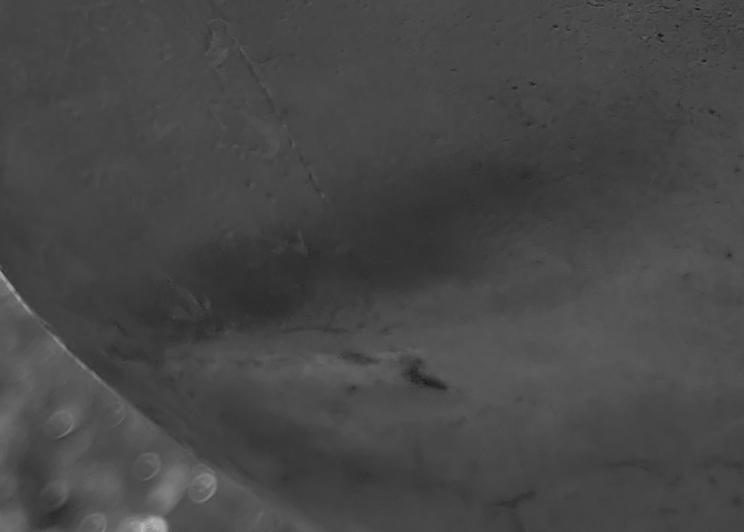dent: (0, 1, 744, 532)
